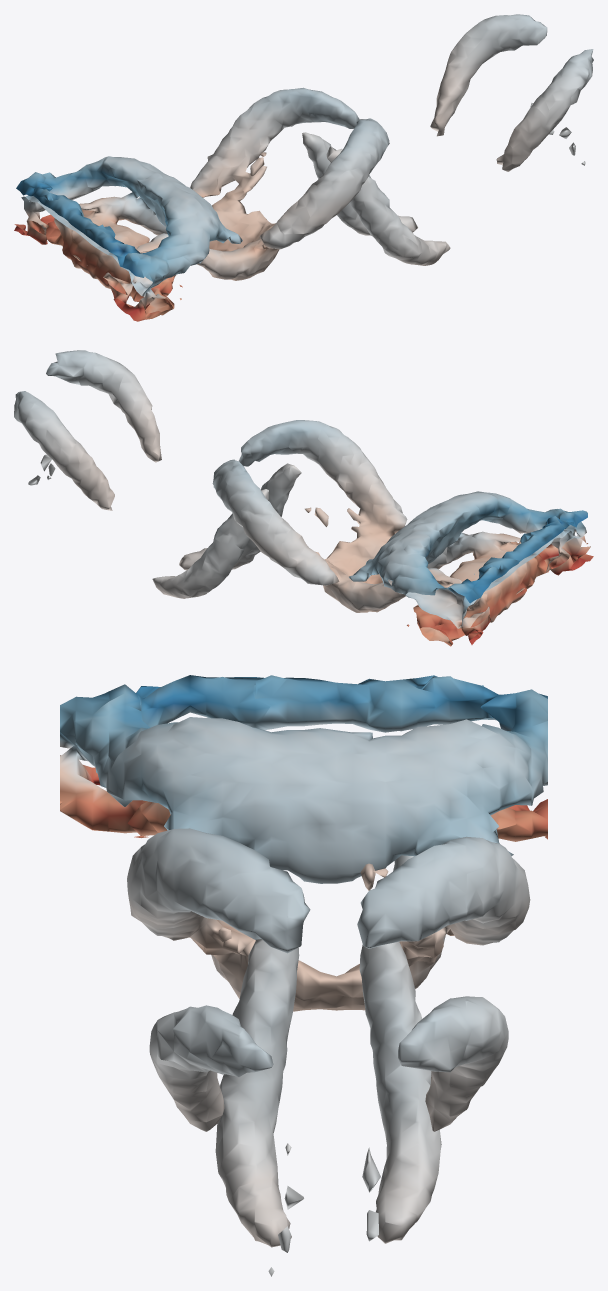
3 views of the same model, one above another, from view 1: azimuth 30°, elevation 25°; view 2: azimuth 150°, elevation 25°; view 3: azimuth 270°, elevation 25° (orthographic). The views are drawn at different scales.
Size of the model in its own units: 5.91 by 2.05 by 2.5.
